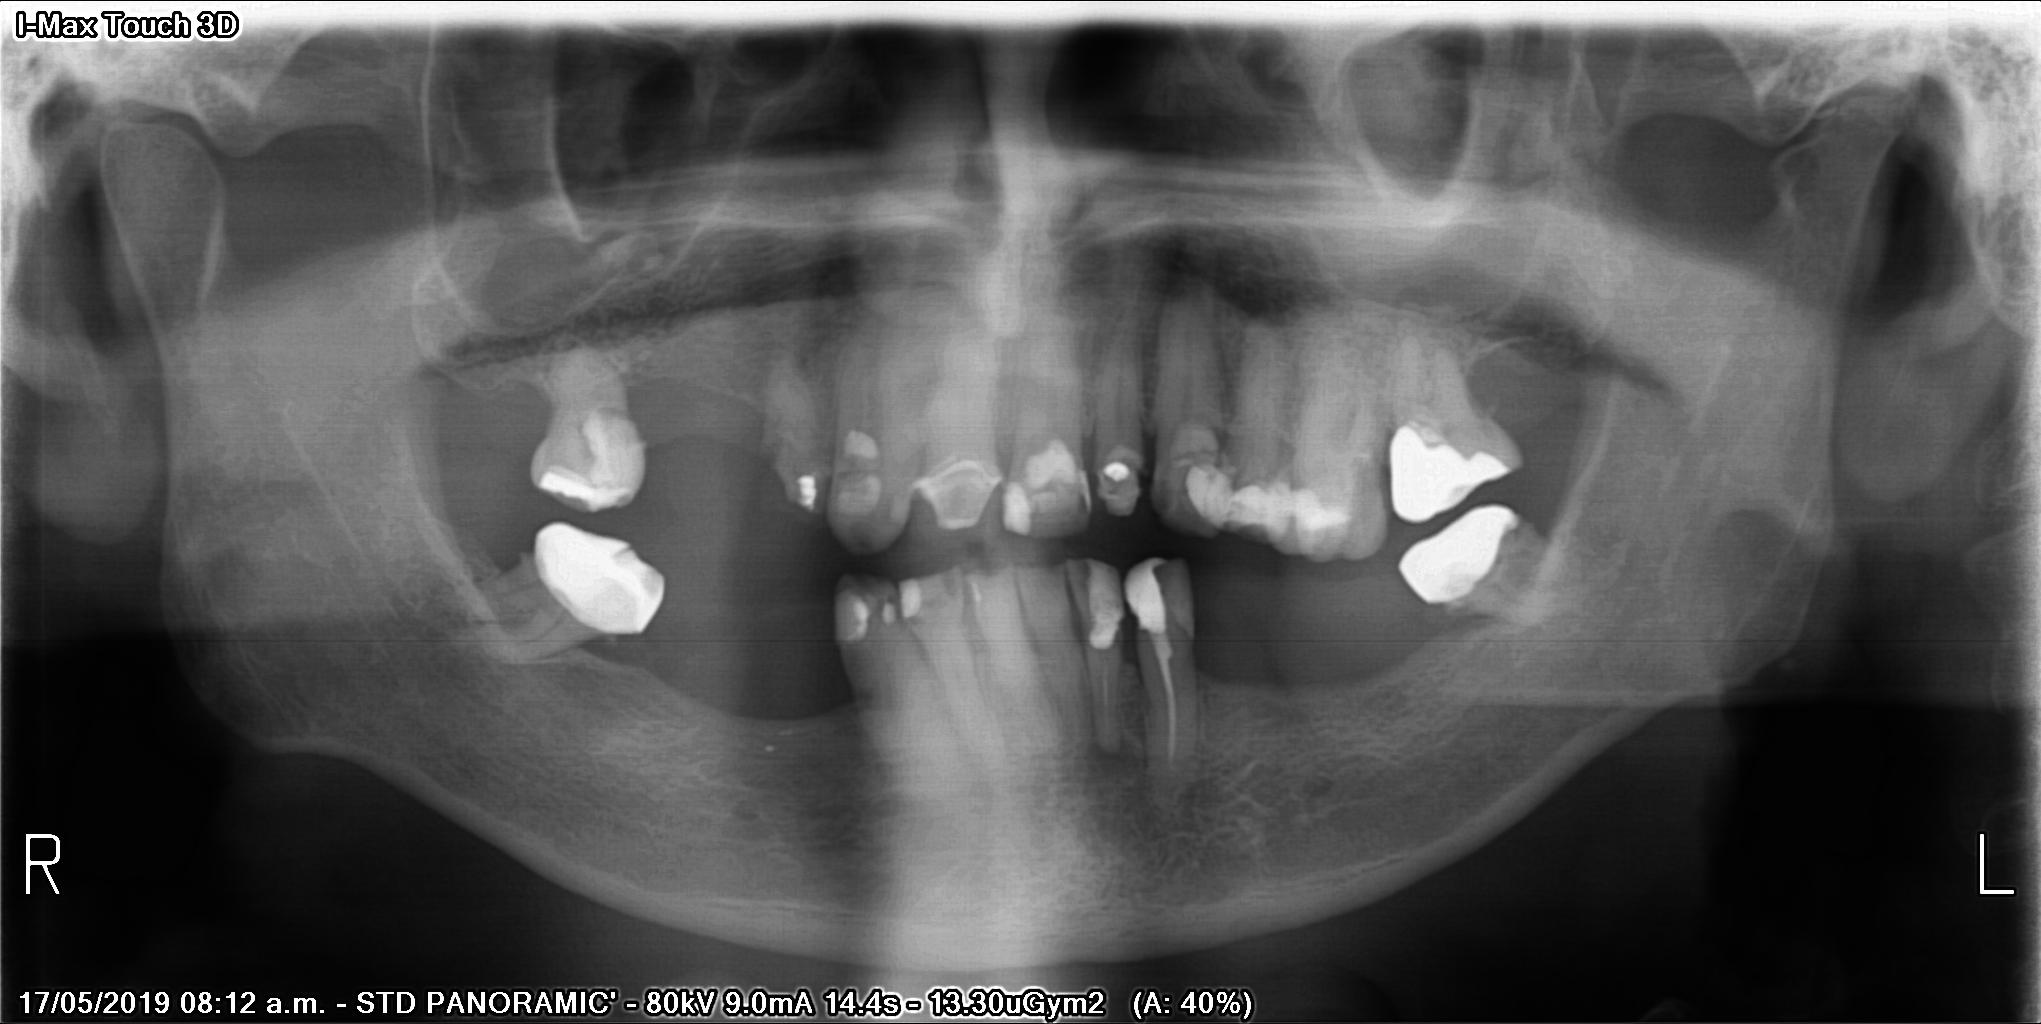Çürük: (531, 520, 671, 647), (1375, 414, 1524, 528), (1405, 490, 1549, 602), (531, 424, 663, 516), (1085, 546, 1139, 649), (1123, 556, 1186, 631), (919, 468, 1000, 522), (1188, 469, 1230, 528), (1025, 441, 1072, 482), (832, 586, 866, 633), (1002, 486, 1025, 541), (900, 576, 930, 616), (1102, 465, 1136, 488), (793, 478, 817, 508), (883, 605, 900, 632)
Çürük Bölgesi: (1072, 562, 1100, 602), (810, 472, 832, 513)
